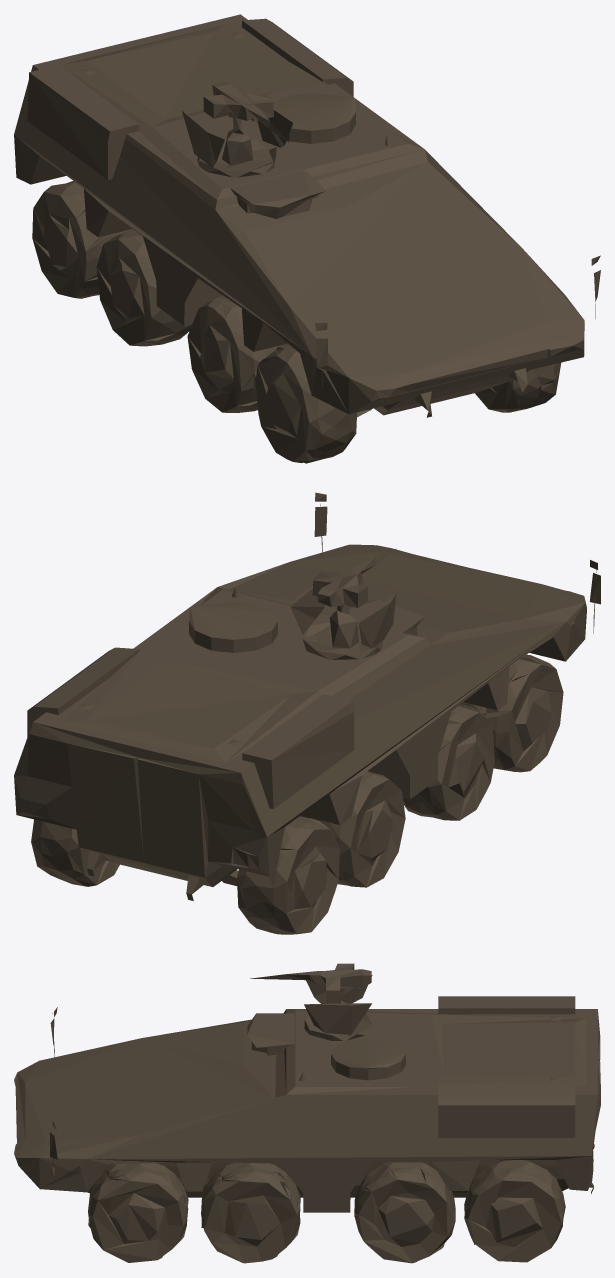
Rendered from ifv.lod2.glb.
3 renders of one model, top to bottom at view 1: azimuth 30°, elevation 25°; view 2: azimuth 150°, elevation 25°; view 3: azimuth 270°, elevation 25°, orthographic. The views are drawn at different scales.
Visible parts, largest first — view 1: ifv_vfertig_lambert1_0; view 2: ifv_vfertig_lambert1_0; view 3: ifv_vfertig_lambert1_0.
Part boxes in pixels (x1,y1,x2,y2): ifv_vfertig_lambert1_0: (14, 14, 600, 463); ifv_vfertig_lambert1_0: (14, 492, 600, 934); ifv_vfertig_lambert1_0: (14, 963, 600, 1263).
Bounding box in the file's own units: 3.32 × 2.91 × 7.
